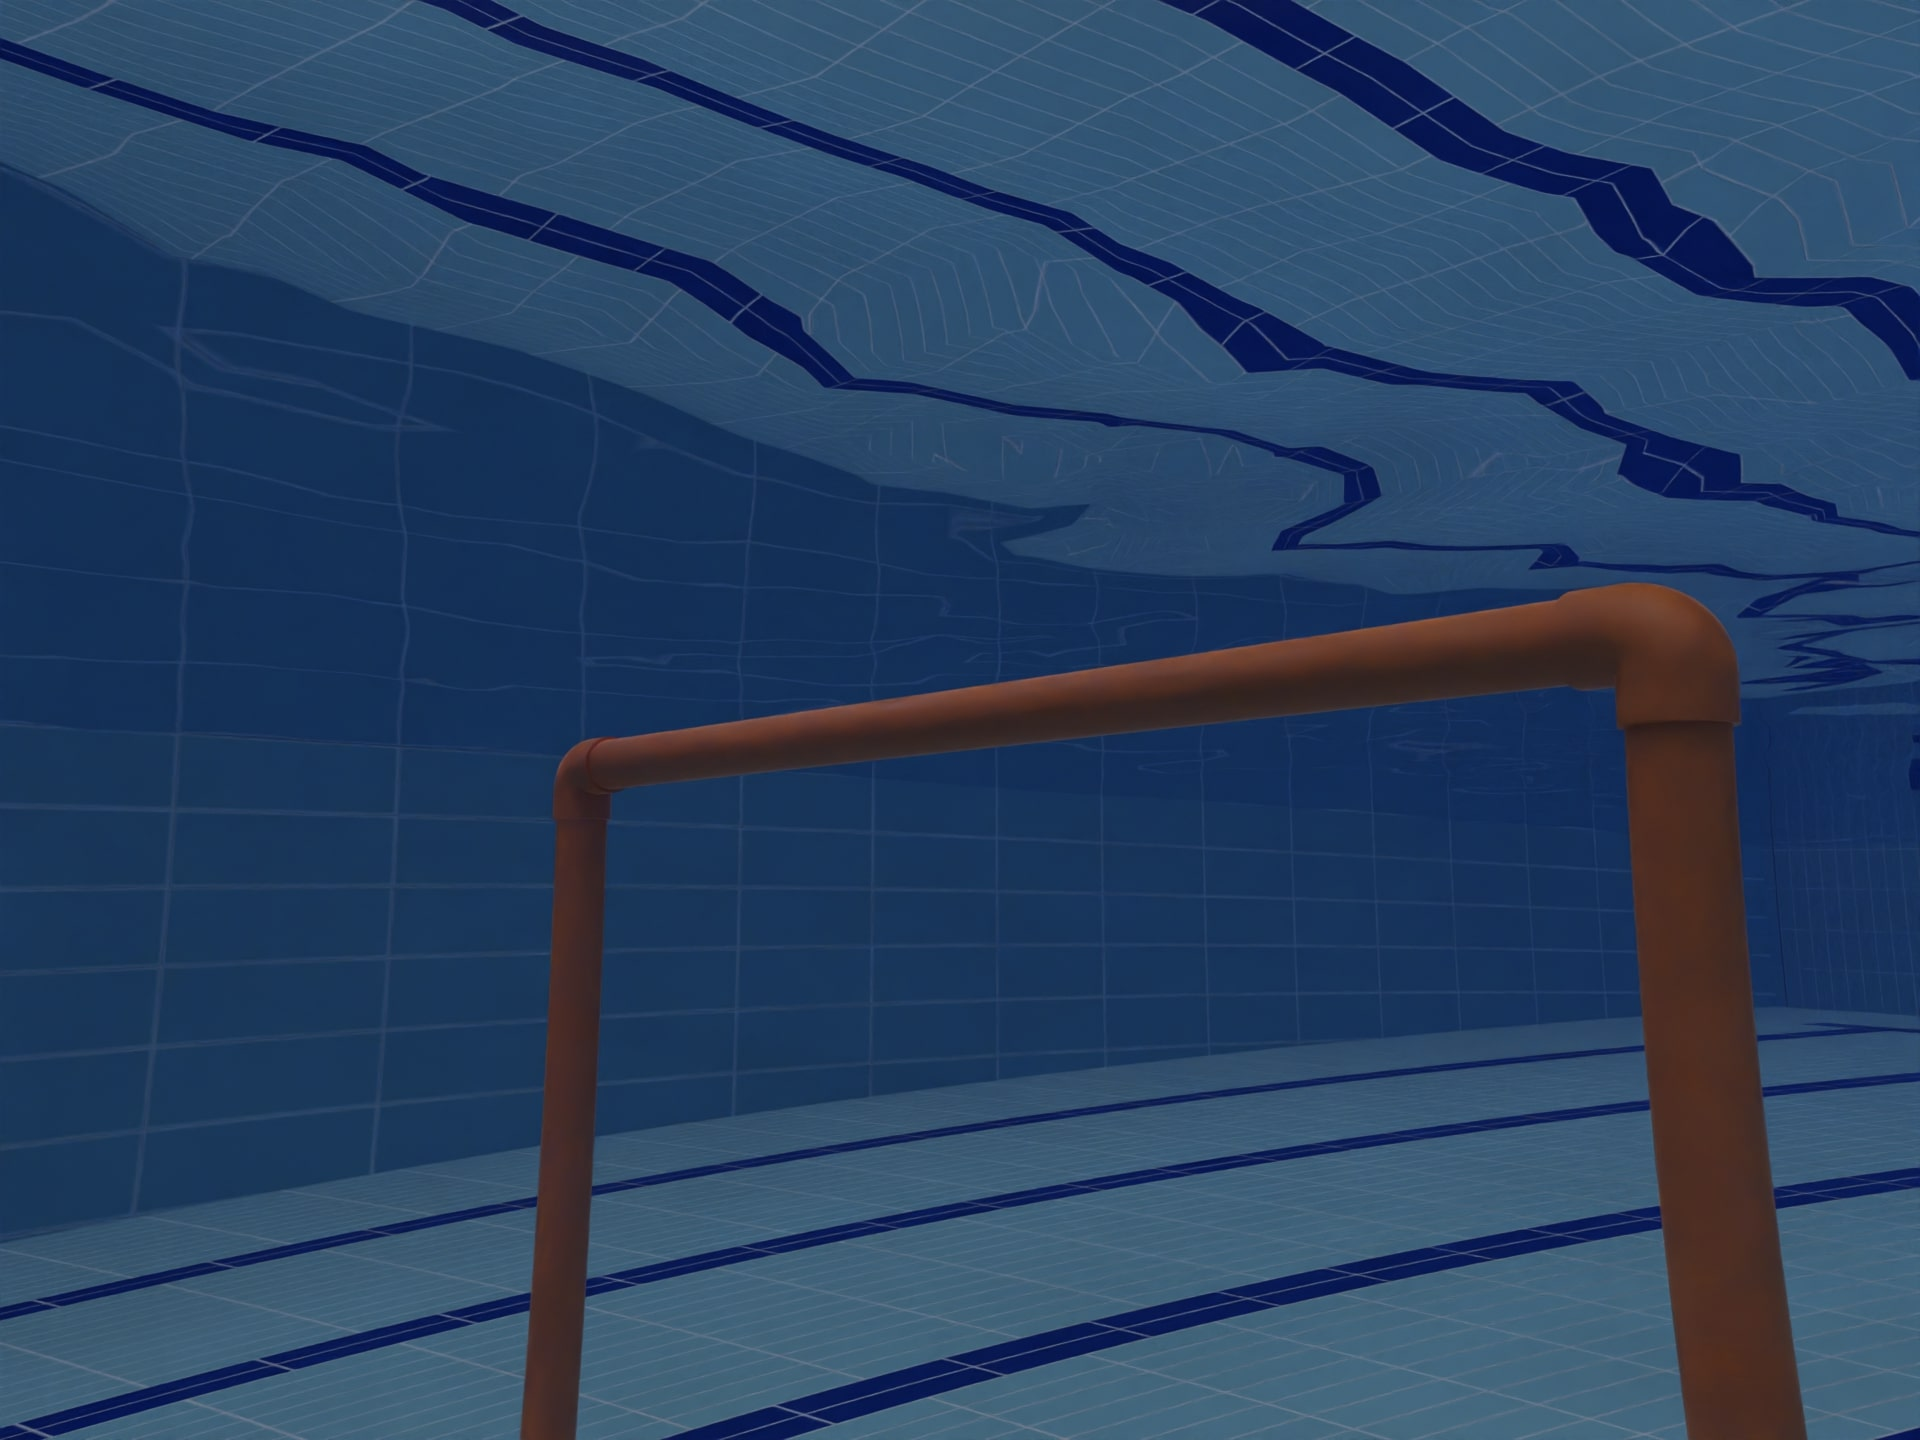gate: (523, 572, 1838, 1440)
